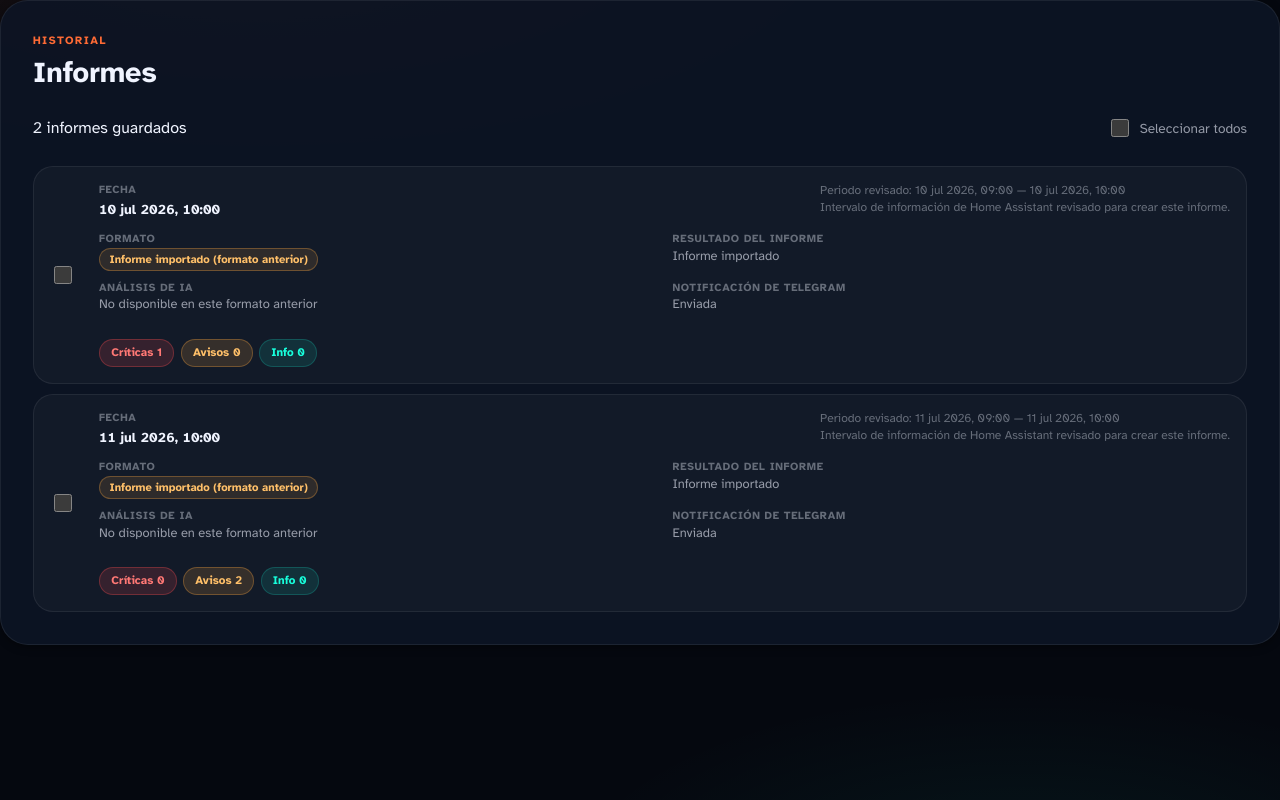
Report History Batch Selection and Deletion › toggles individual report selection and displays batch toolbar with count
Select first report
Click the checkbox named "Seleccionar informe report-1".
click(63, 275)  # box x1=54 y1=266 x2=72 y2=284
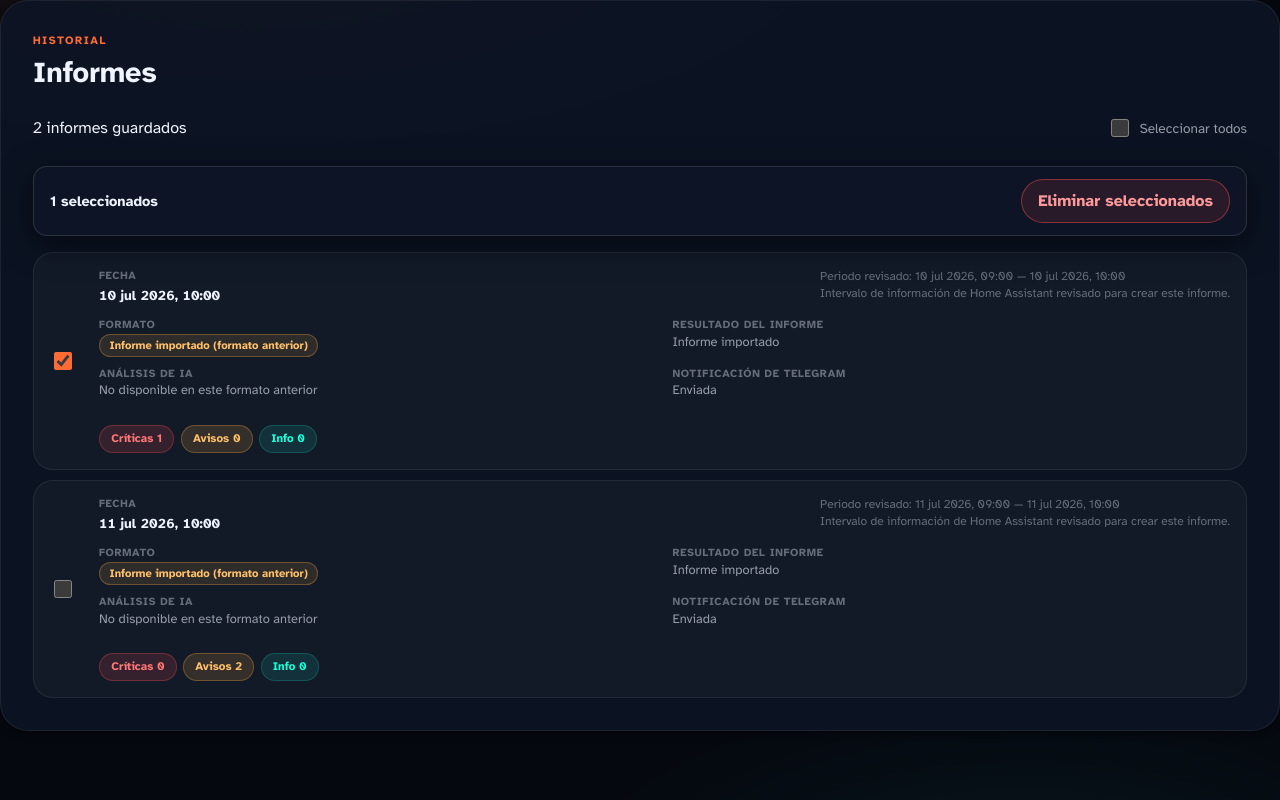
Result: the element with class "history-batch-toolbar" is shown at x1=33 y1=166 x2=1247 y2=236
Result: the element with class "history-batch-toolbar" shows "1 seleccionados" at x1=50 y1=192 x2=158 y2=210
Result: the element with class "history-batch-toolbar" shows "Eliminar seleccionados" at x1=1021 y1=179 x2=1230 y2=223
Select second report
Click the checkbox named "Seleccionar informe report-2".
click(63, 589)  # box x1=54 y1=580 x2=72 y2=598
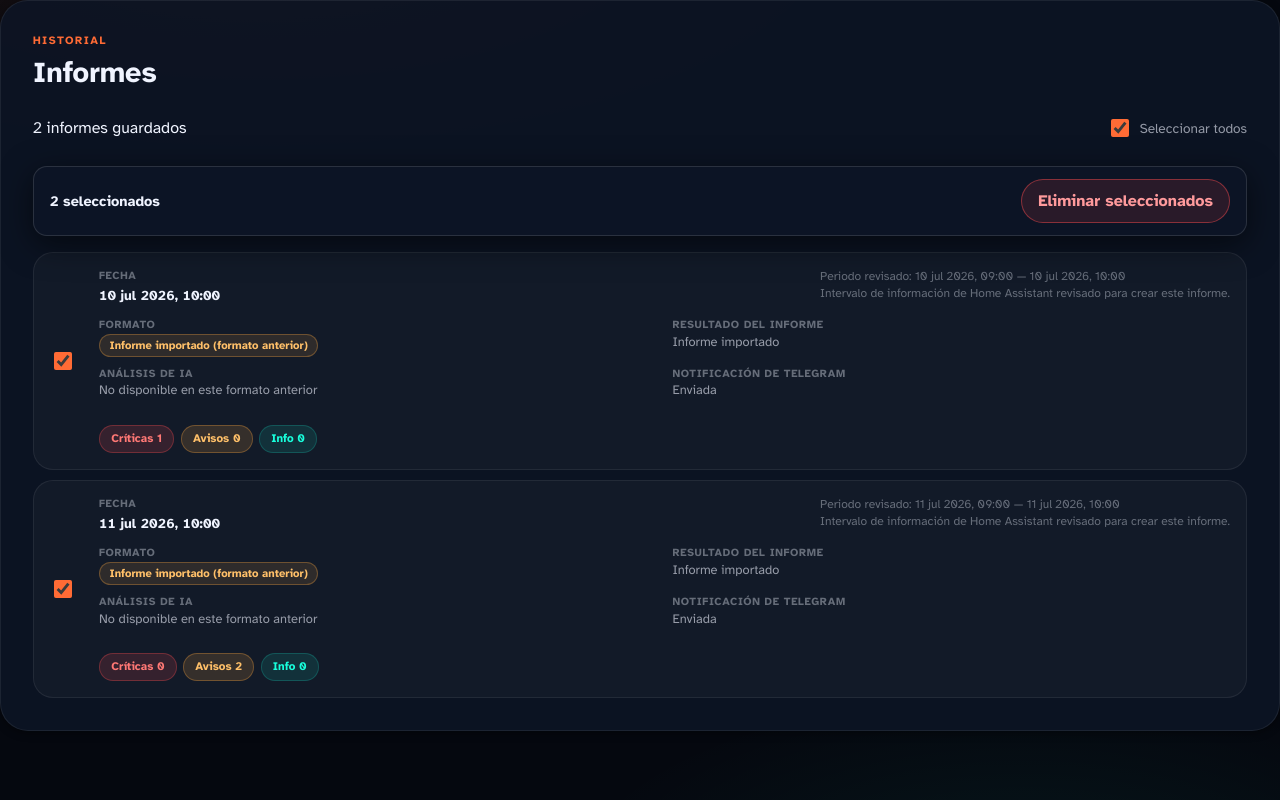
Result: the element with class "history-batch-toolbar" shows "2 seleccionados" at x1=50 y1=192 x2=160 y2=210
